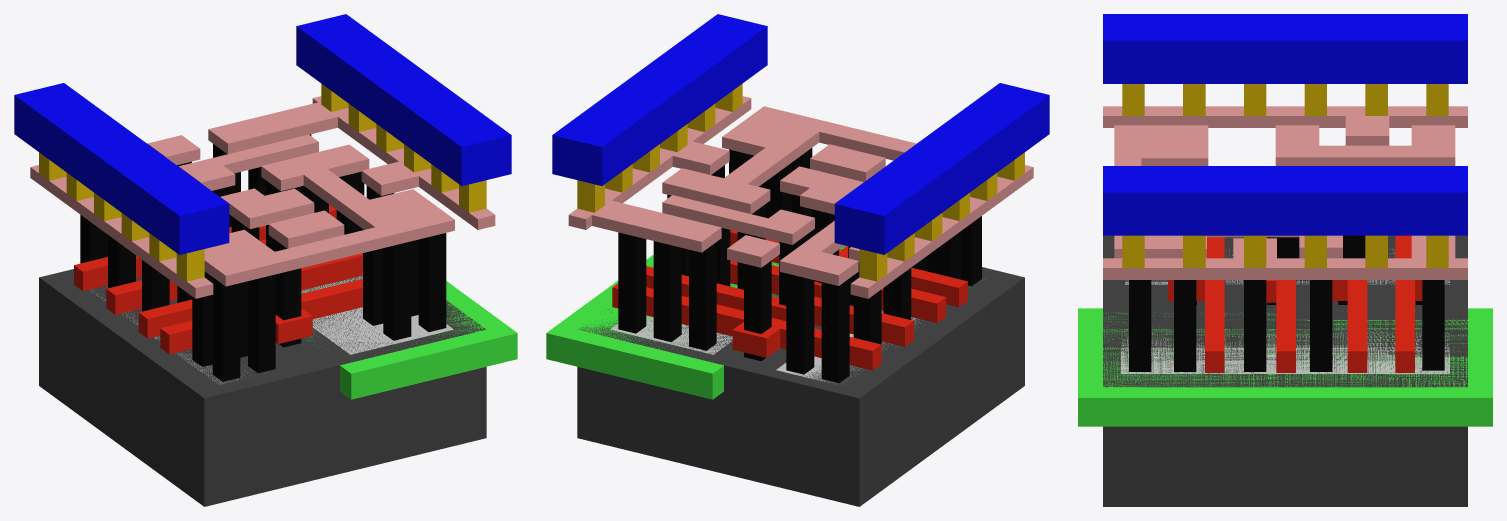
Rendered from sky130_fd_sc_hd__o211ai_1.obj.
The picture shows the model from 3 angles, left to right: view 1: azimuth 30°, elevation 25°; view 2: azimuth 150°, elevation 25°; view 3: azimuth 270°, elevation 25°; orthographic projection. The views are drawn at different scales.
Parts seen in each view (by area): view 1: subs, metal1, li, licon, poly, nwell, mcon, tap; view 2: subs, metal1, li, licon, poly, nwell, mcon, tap; view 3: metal1, subs, li, nwell, licon, poly, mcon, tap.
Boxes of the visible parts, x1,y1,x2,y2 form: subs: (39, 269, 486, 506); metal1: (14, 14, 511, 254); li: (30, 96, 495, 298); licon: (80, 134, 446, 381); poly: (74, 204, 362, 354); nwell: (301, 276, 517, 399); mcon: (39, 83, 486, 281); tap: (301, 275, 453, 354); subs: (577, 245, 1024, 506); metal1: (552, 14, 1049, 254); li: (568, 96, 1033, 298); licon: (618, 148, 981, 383); poly: (612, 230, 967, 370); nwell: (546, 245, 846, 399); mcon: (577, 83, 1024, 281); tap: (610, 315, 732, 354); metal1: (1103, 14, 1467, 235); subs: (1103, 235, 1467, 506); li: (1103, 106, 1467, 279); nwell: (1078, 308, 1492, 426); licon: (1129, 235, 1444, 371); poly: (1168, 235, 1422, 372); mcon: (1122, 84, 1448, 267); tap: (1121, 329, 1449, 373).
Size of the model in its own units: 3.2 by 2.74 by 3.14.
